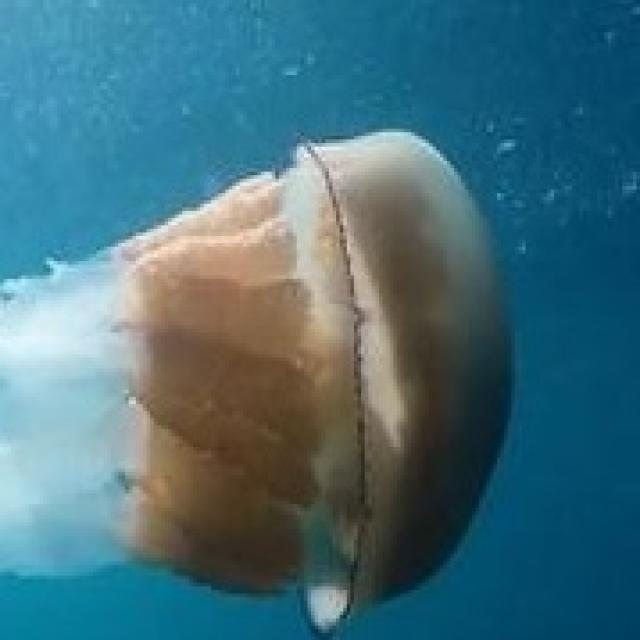Box-jellyfish: (0, 125, 515, 637)
